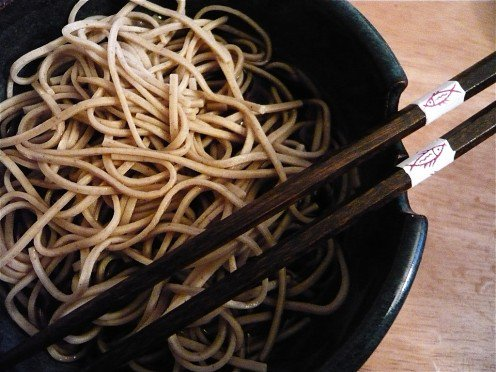Soba: (1, 3, 260, 236)
